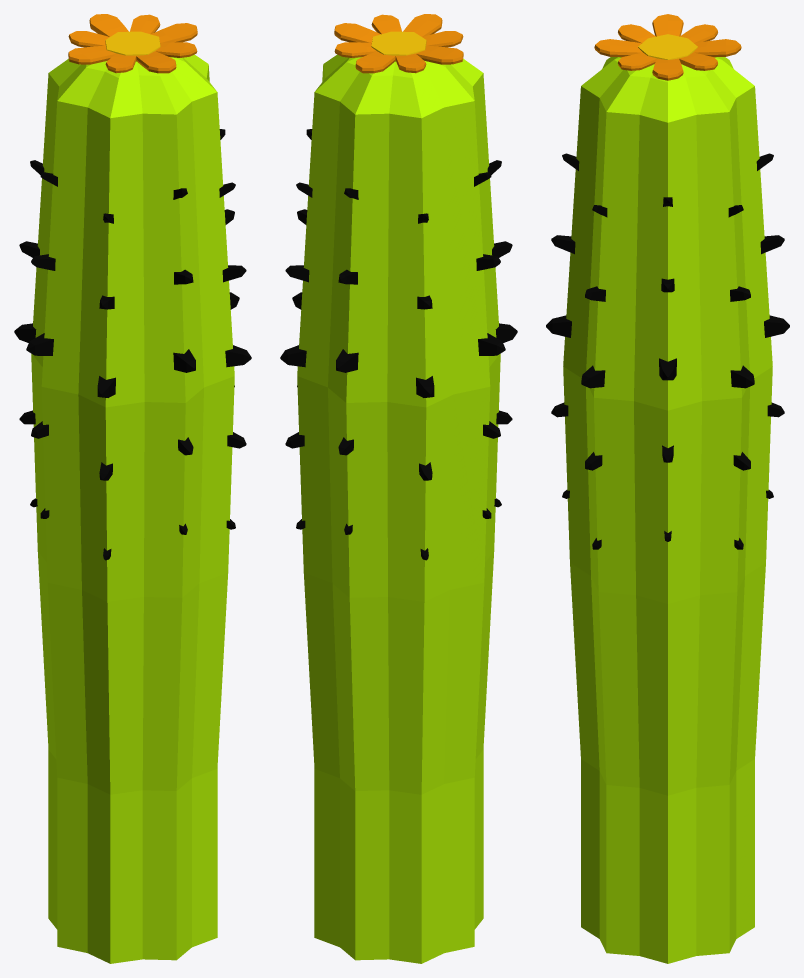
Rendered from Cardon05_00Brazos_Flor_Anaranjada.fbx.
The picture shows the model from 3 angles, left to right: view 1: azimuth 30°, elevation 25°; view 2: azimuth 150°, elevation 25°; view 3: azimuth 270°, elevation 25°; orthographic projection.
Parts seen in each view (by area): view 1: Cactus, Espinas, Flor_Anaranjada; view 2: Cactus, Espinas, Flor_Anaranjada; view 3: Cactus, Espinas, Flor_Anaranjada.
Part boxes in pixels (<box>): Cactus: <box>31,54,234,963</box>; Espinas: <box>14,129,251,560</box>; Flor_Anaranjada: <box>68,14,197,73</box>; Cactus: <box>297,54,500,963</box>; Espinas: <box>280,129,517,560</box>; Flor_Anaranjada: <box>334,14,463,73</box>; Cactus: <box>563,57,772,963</box>; Espinas: <box>546,153,789,549</box>; Flor_Anaranjada: <box>594,14,741,80</box>.
Size of the model in its own units: 53.18 by 212 by 53.18.
